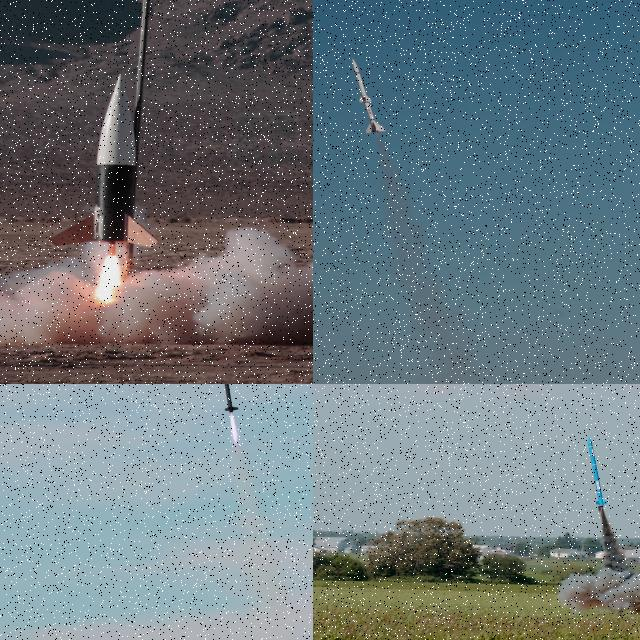Rocket: (47, 71, 159, 254), (351, 58, 386, 134), (587, 436, 610, 507), (224, 384, 239, 413)
